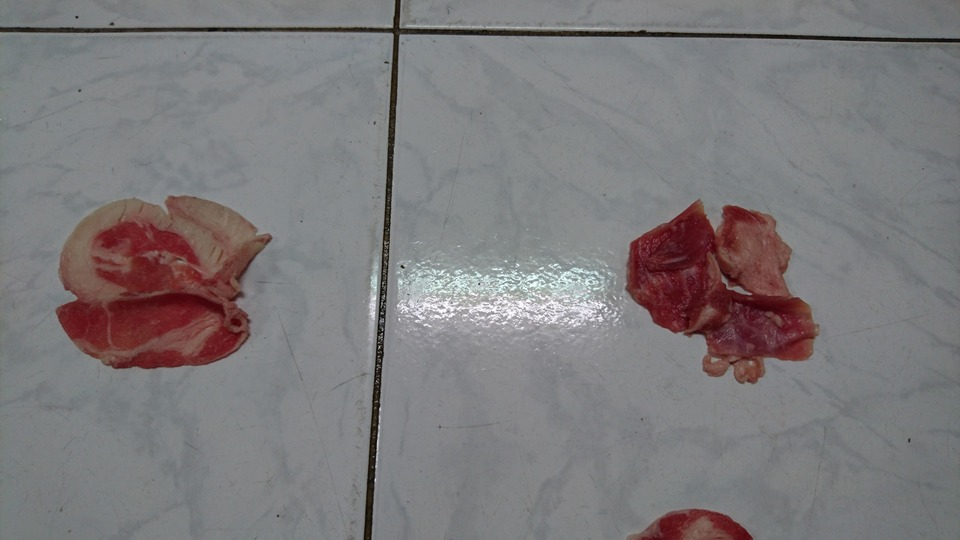restructured meat: (55, 186, 269, 379), (623, 198, 817, 390)
